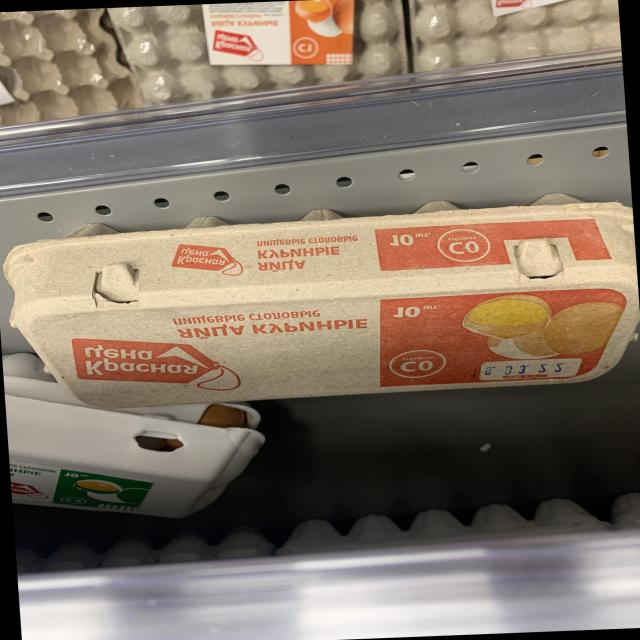organic waste: (0, 192, 640, 416)
